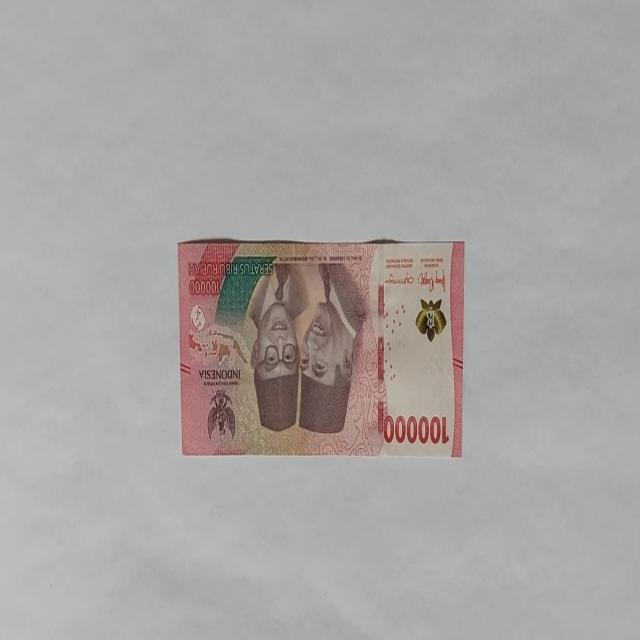seratus ribu rupiah: (177, 237, 465, 458)
